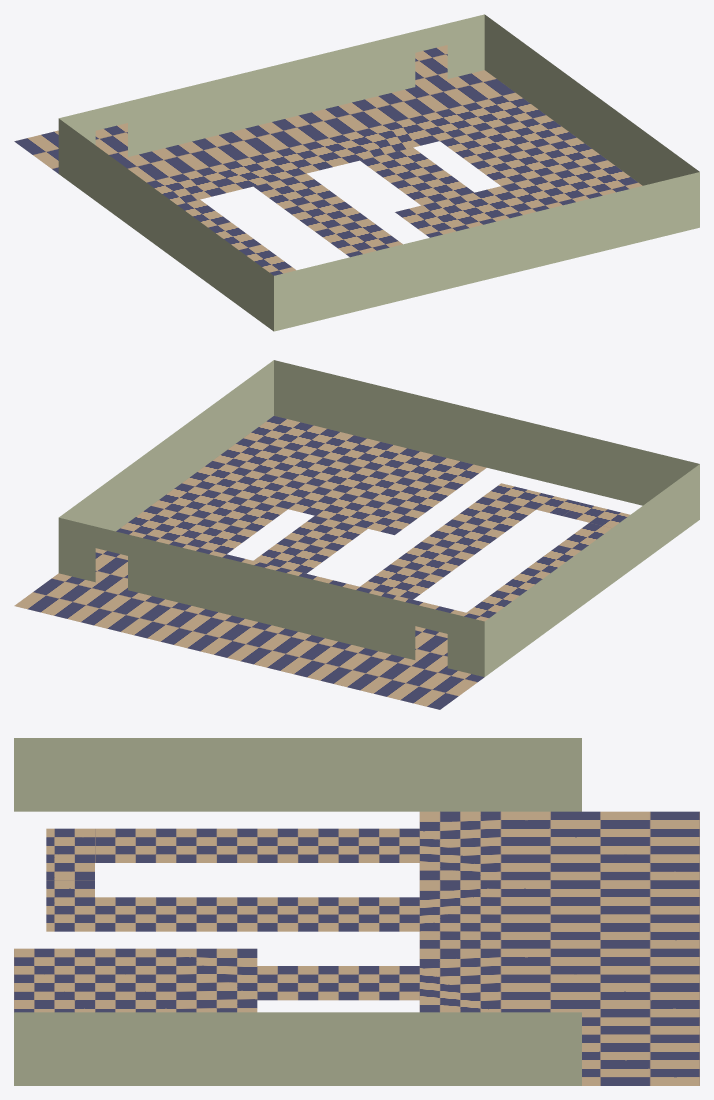
File: Level_Colliders.fbx
The picture shows the model from 3 angles, top to bottom: view 1: azimuth 30°, elevation 25°; view 2: azimuth 150°, elevation 25°; view 3: azimuth 270°, elevation 25°; orthographic projection. The views are drawn at different scales.
Parts seen in each view (by area): view 1: Walls, Floor; view 2: Walls, Floor; view 3: Floor, Walls.
Part boxes in pixels (x1=…): Walls: x1=58, y1=14, x2=699, y2=331; Floor: x1=14, y1=45, x2=642, y2=275; Walls: x1=58, y1=360, x2=699, y2=677; Floor: x1=14, y1=416, x2=630, y2=709; Floor: x1=14, y1=811, x2=699, y2=1085; Walls: x1=14, y1=738, x2=581, y2=1085.
Bounding box in the file's own units: 4000 × 500 × 4227.
